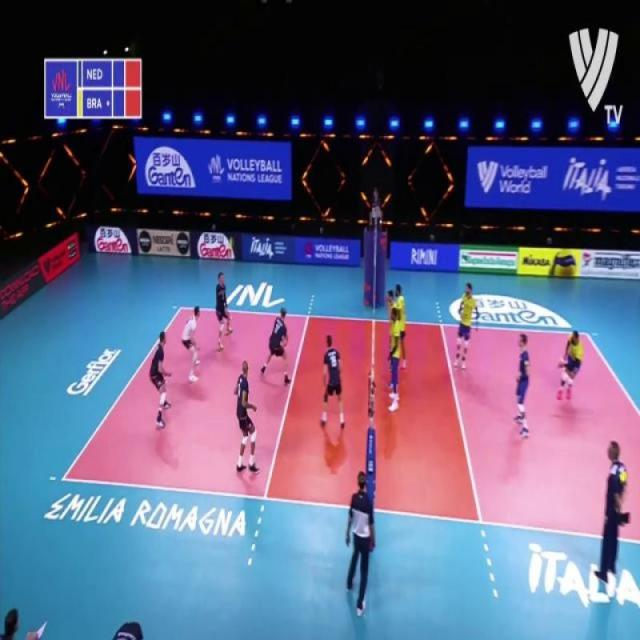volleyball: (547, 248, 578, 276), (228, 236, 236, 252)
